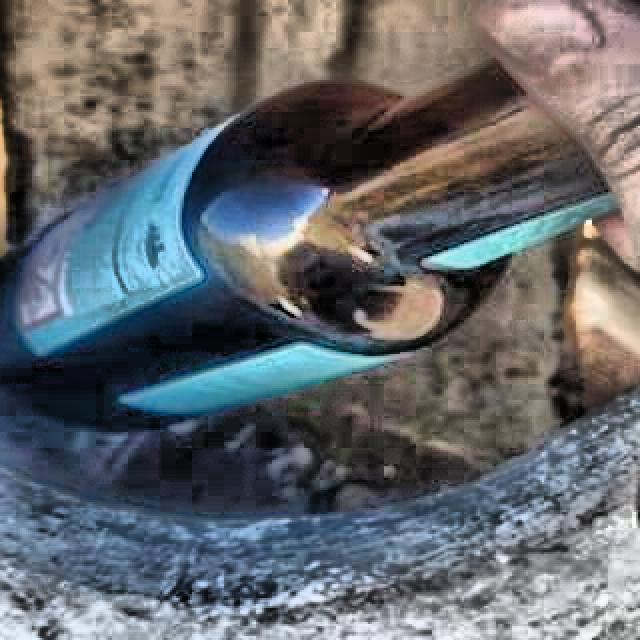glass: (0, 64, 616, 424)
